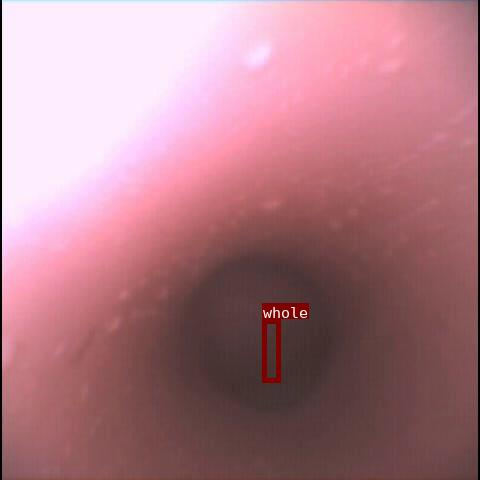whole: (262, 319, 280, 382)
